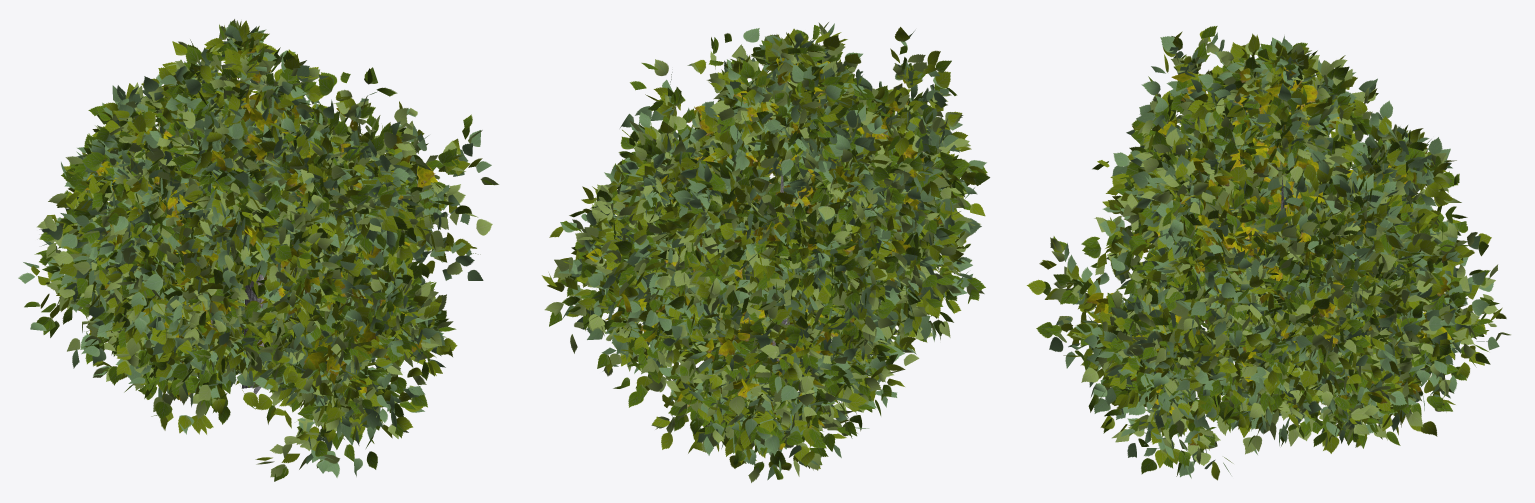
File: plant-0-far.glb
3 renders of one model, left to right at view 1: azimuth 30°, elevation 25°; view 2: azimuth 150°, elevation 25°; view 3: azimuth 270°, elevation 25°, orthographic.
Parts seen in each view (by area): view 1: Bush 3 (smaller)_Leaf_v4_Mat_0, Bush 3 (smaller)_Leaf_v2_Mat_0, Bush 3 (smaller)_Leaf_Mat_0, Bush 3 (smaller)_Leaf_v3_Mat_0, Bush 3 (smaller)_Leaf2_Mat_0; view 2: Bush 3 (smaller)_Leaf_v3_Mat_0, Bush 3 (smaller)_Leaf_Mat_0, Bush 3 (smaller)_Leaf_v2_Mat_0, Bush 3 (smaller)_Leaf_v4_Mat_0, Bush 3 (smaller)_Leaf2_Mat_0; view 3: Bush 3 (smaller)_Leaf_v4_Mat_0, Bush 3 (smaller)_Leaf_v2_Mat_0, Bush 3 (smaller)_Leaf_v3_Mat_0, Bush 3 (smaller)_Leaf_Mat_0, Bush 3 (smaller)_Leaf2_Mat_0.
Part boxes in pixels (x1,y1,x2,y2): Bush 3 (smaller)_Leaf_v4_Mat_0: (18,21,491,477); Bush 3 (smaller)_Leaf_v2_Mat_0: (31,20,482,463); Bush 3 (smaller)_Leaf_Mat_0: (24,21,498,481); Bush 3 (smaller)_Leaf_v3_Mat_0: (37,19,497,477); Bush 3 (smaller)_Leaf2_Mat_0: (85,44,459,401); Bush 3 (smaller)_Leaf_v3_Mat_0: (544,22,984,482); Bush 3 (smaller)_Leaf_Mat_0: (549,25,990,479); Bush 3 (smaller)_Leaf_v2_Mat_0: (541,27,986,470); Bush 3 (smaller)_Leaf_v4_Mat_0: (557,23,986,480); Bush 3 (smaller)_Leaf2_Mat_0: (586,58,943,450); Bush 3 (smaller)_Leaf_v4_Mat_0: (1043,32,1499,478); Bush 3 (smaller)_Leaf_v2_Mat_0: (1026,30,1506,480); Bush 3 (smaller)_Leaf_v3_Mat_0: (1050,37,1510,465); Bush 3 (smaller)_Leaf_Mat_0: (1036,26,1499,476); Bush 3 (smaller)_Leaf2_Mat_0: (1086,62,1456,445).
Size of the model in its own units: 1.08 by 1.1 by 1.15.
6 materials, 6 textured.
